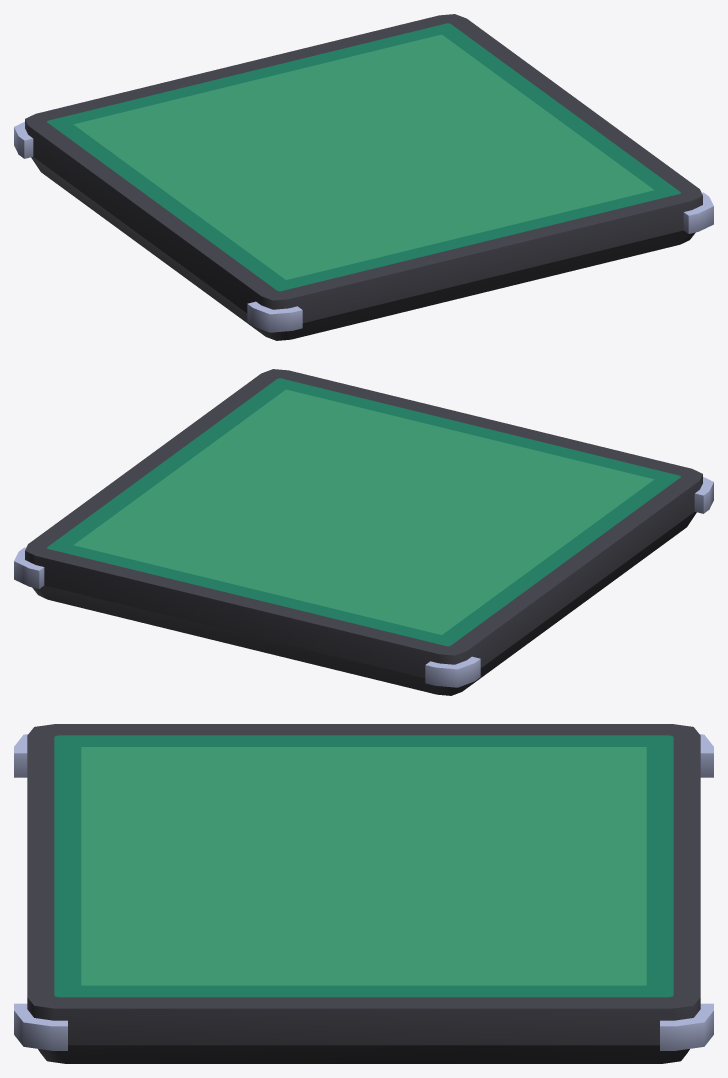
File: fpskit_platform_large_grass.glb
The picture shows the model from 3 angles, top to bottom: view 1: azimuth 30°, elevation 25°; view 2: azimuth 150°, elevation 25°; view 3: azimuth 270°, elevation 25°; orthographic projection. The views are drawn at different scales.
Visible parts, largest first — view 1: platform-large-grass; view 2: platform-large-grass; view 3: platform-large-grass.
Part boxes in pixels (x1,y1,x2,y2): platform-large-grass: (14, 14, 713, 340); platform-large-grass: (14, 369, 713, 695); platform-large-grass: (14, 724, 713, 1063).
Bounding box in the file's own units: 5.2 × 0.5 × 5.2.
Materials: 1 (1 with a texture image).
